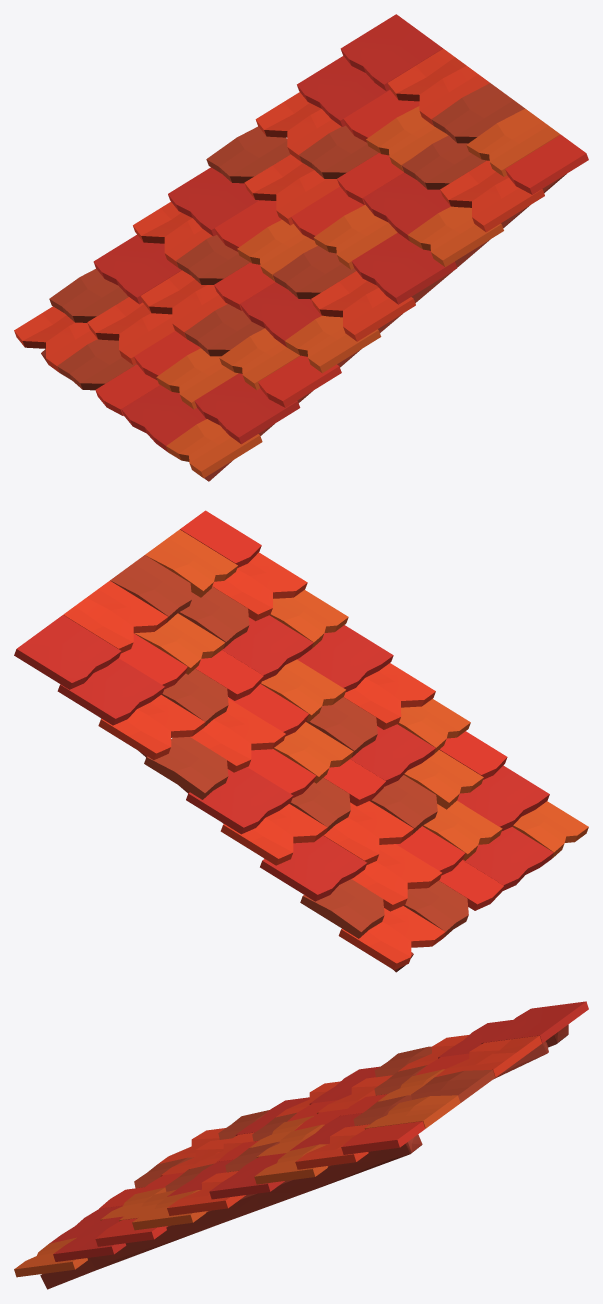
Rendered from Shingles.fbx.
The picture shows the model from 3 angles, top to bottom: view 1: azimuth 30°, elevation 25°; view 2: azimuth 150°, elevation 25°; view 3: azimuth 330°, elevation 25°; orthographic projection.
Parts seen in each view (by area): view 1: Shingles; view 2: Shingles; view 3: Shingles.
Boxes of the visible parts, x1,y1,x2,y2 form: Shingles: (14, 14, 588, 481); Shingles: (14, 510, 588, 972); Shingles: (14, 1001, 588, 1289).
Bounding box in the file's own units: 3.53 × 2.16 × 3.
